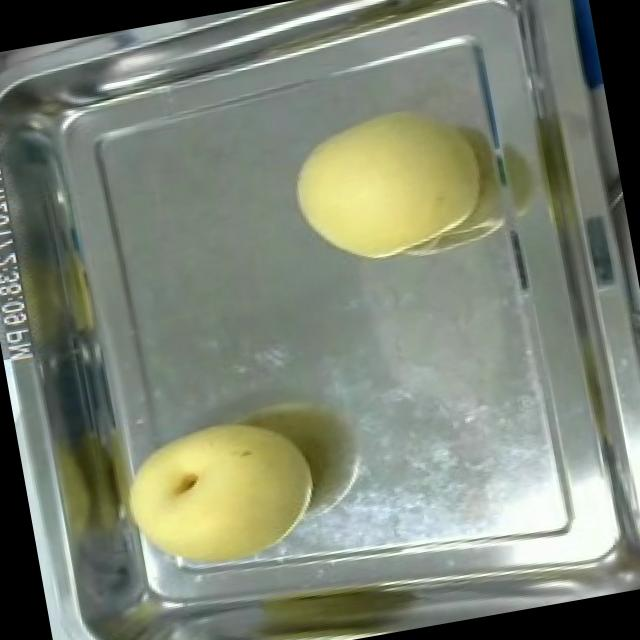Fruit: (273, 86, 502, 283), (108, 400, 330, 592)
